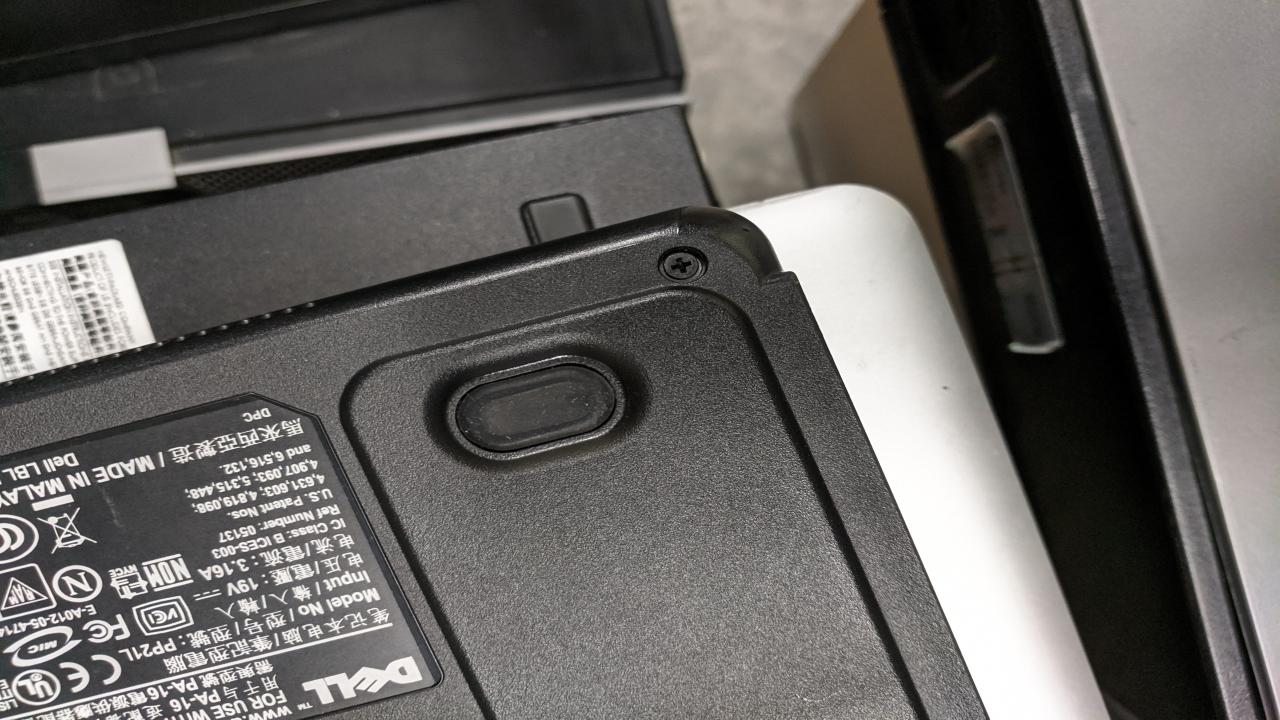CRS: (660, 242, 710, 290)
